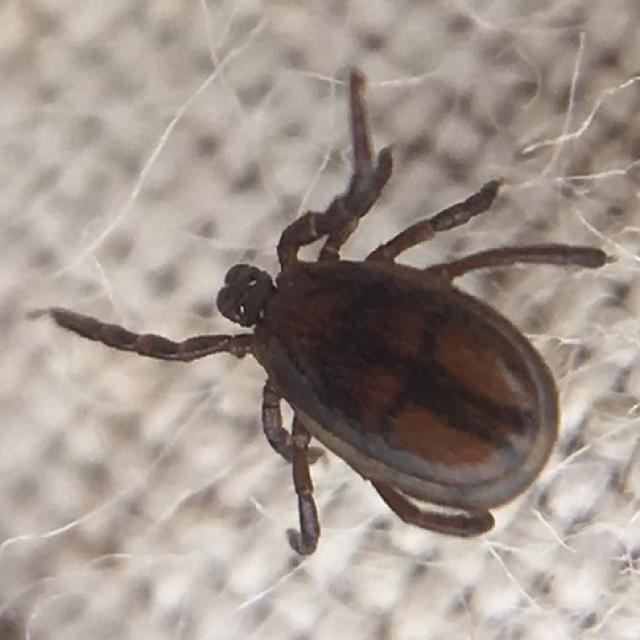Ixodes Ricinus-M: (49, 68, 611, 559)
